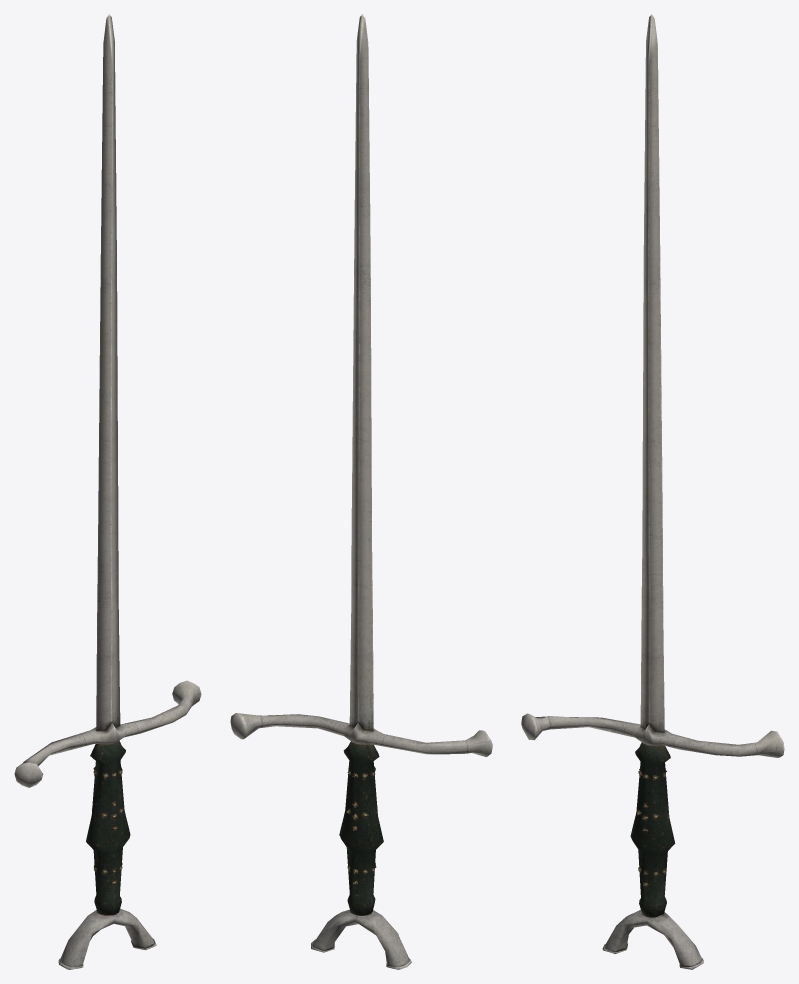
Rendered from antique_estoc.glb.
The picture shows the model from 3 angles, left to right: view 1: azimuth 30°, elevation 25°; view 2: azimuth 150°, elevation 25°; view 3: azimuth 330°, elevation 25°; orthographic projection.
Visible parts, largest first — view 1: antique_estoc; view 2: antique_estoc; view 3: antique_estoc.
Part boxes in pixels (<box>): antique_estoc: <box>14,14,201,969</box>; antique_estoc: <box>230,14,492,969</box>; antique_estoc: <box>521,14,784,969</box>.
Size of the model in its own units: 0.3715 by 1.49 by 0.1479.
Materials: 1 (1 with a texture image).
